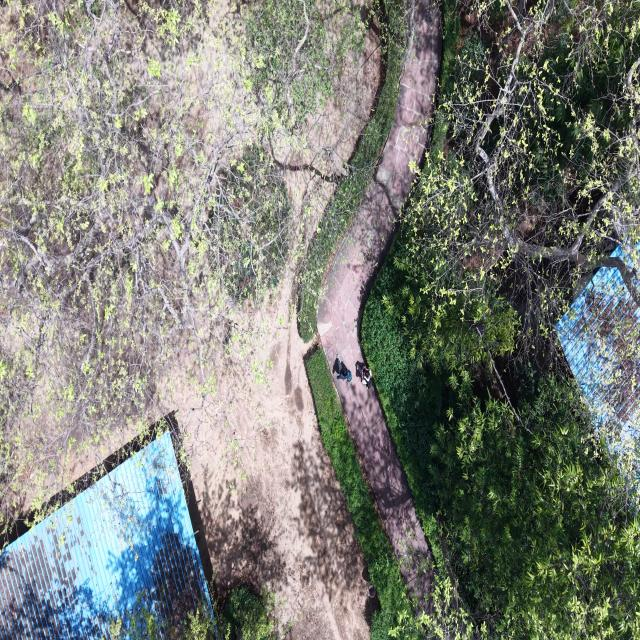DRY_AREA: (146, 247, 378, 639), (150, 272, 376, 639), (149, 282, 373, 639), (150, 283, 371, 639), (160, 271, 373, 639), (153, 283, 372, 639), (165, 268, 375, 639), (161, 284, 375, 639), (167, 282, 372, 639), (317, 0, 441, 375), (272, 29, 383, 241), (12, 352, 136, 513)
ROOFTOP_BUILDING: (0, 432, 212, 639), (0, 433, 212, 639), (557, 268, 639, 437)
VEGETATION_TREE: (307, 0, 639, 639), (0, 0, 363, 529), (362, 2, 639, 638), (0, 2, 289, 523), (363, 264, 639, 638), (385, 2, 639, 401), (389, 0, 639, 361), (428, 367, 639, 638), (306, 350, 473, 639), (298, 0, 410, 341), (306, 350, 409, 639), (362, 237, 446, 522), (241, 0, 364, 135), (110, 587, 275, 639), (109, 598, 219, 639), (219, 587, 276, 639)
